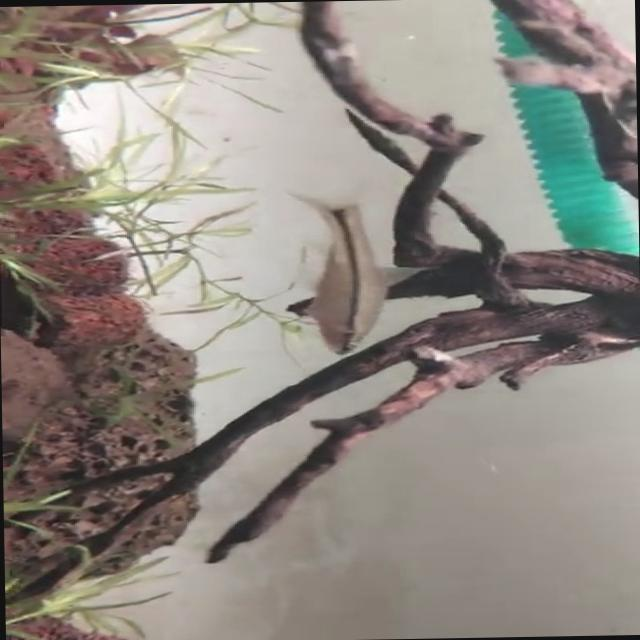Cakil Baligi: (286, 184, 435, 360)
